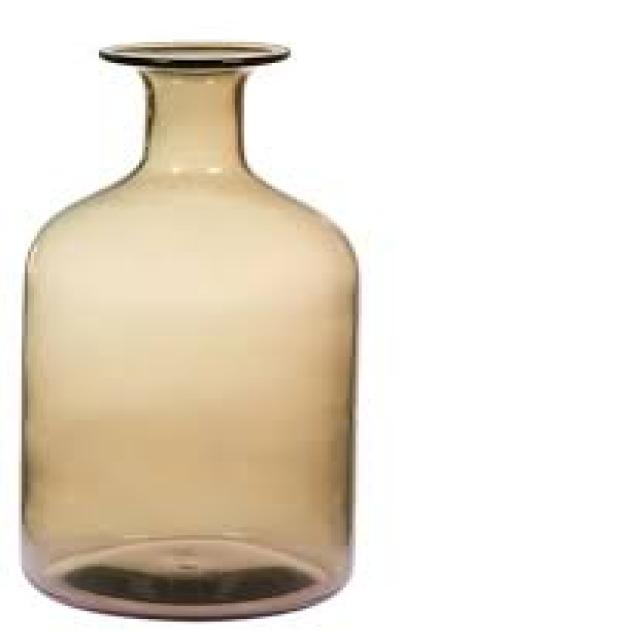glass: (19, 39, 356, 619)
